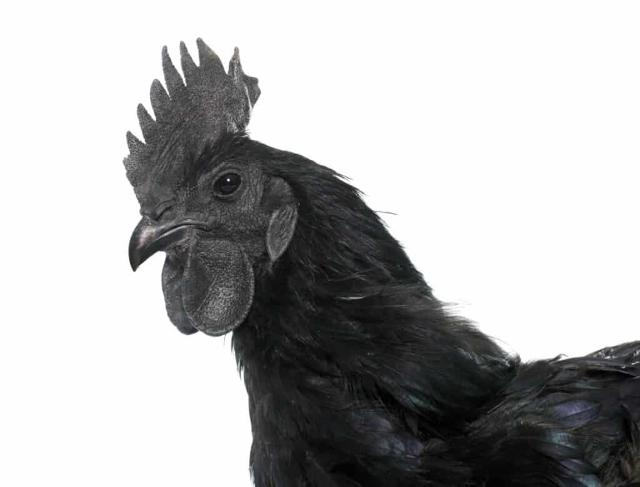Chicken: (119, 35, 639, 487)
